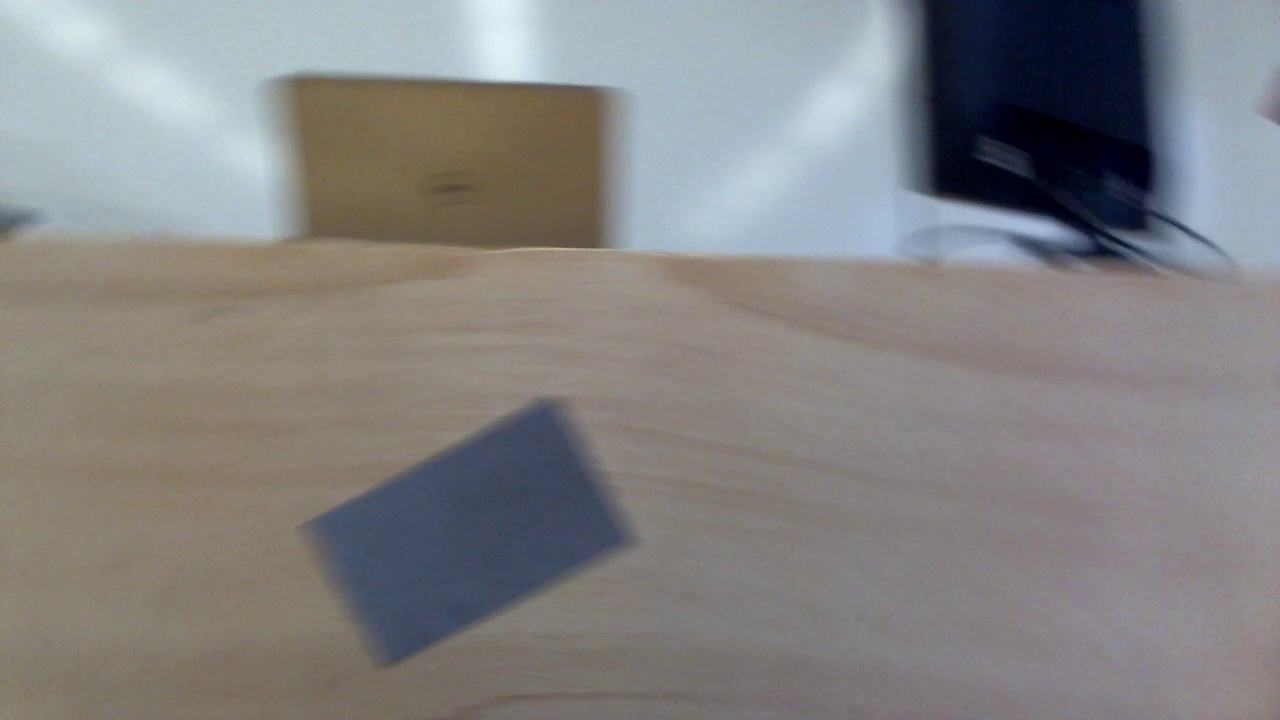Tape: (297, 398, 642, 664)
